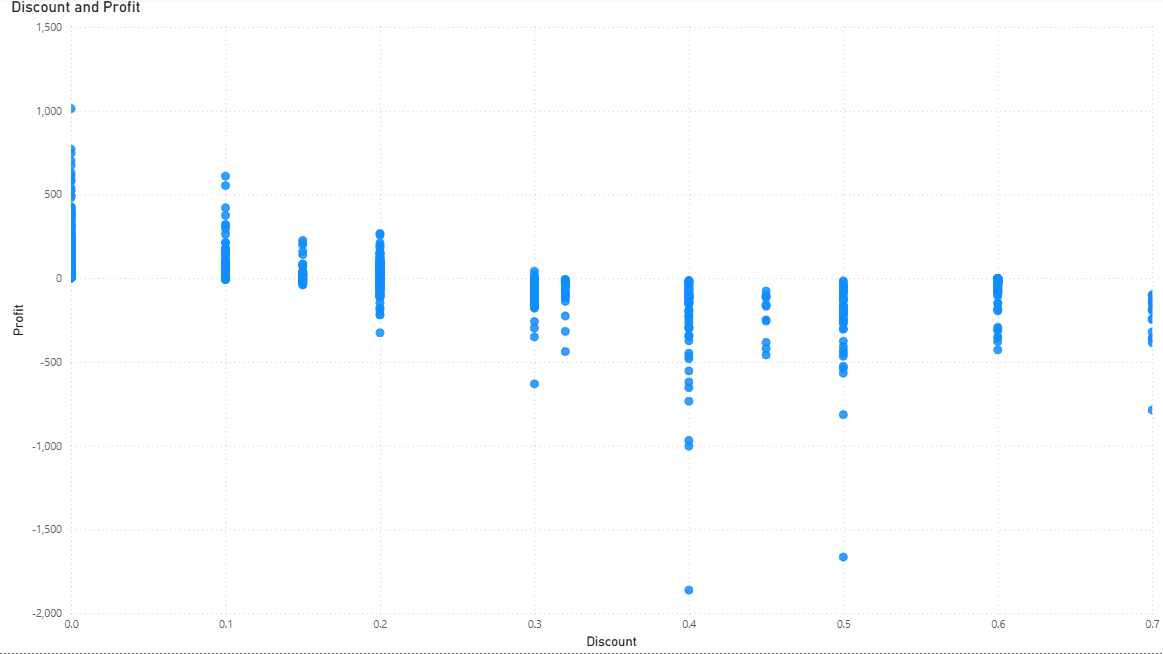

What the dashboard file says about the page in this screenshot:
{"tool":"powerbi","page":{"name":"Page 5","canvas":[1280,720],"ordinal":4},"visuals":[{"type":"scatterChart","fields":{"Y":["Super_Store_data_cleaned.Profit"],"X":["Super_Store_data_cleaned.Discount"]},"box":[9.6,0,1270.7,720.4],"z":0}]}

Visuals, with their boxes in screenshot pixels (x1, y1, x2, y2), scaled from the page's 1280x720 canvas onto the 1163x654 screenshot:
scatterChart - Super_Store_data_cleaned.Profit x Super_Store_data_cleaned.Discount: Rect(9, 0, 1162, 653)
